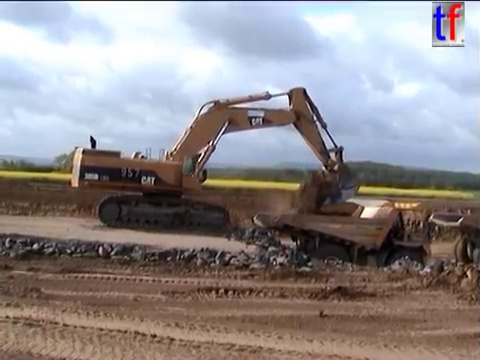excavator: (67, 84, 362, 233)
truck: (250, 199, 434, 290), (425, 209, 480, 271)
